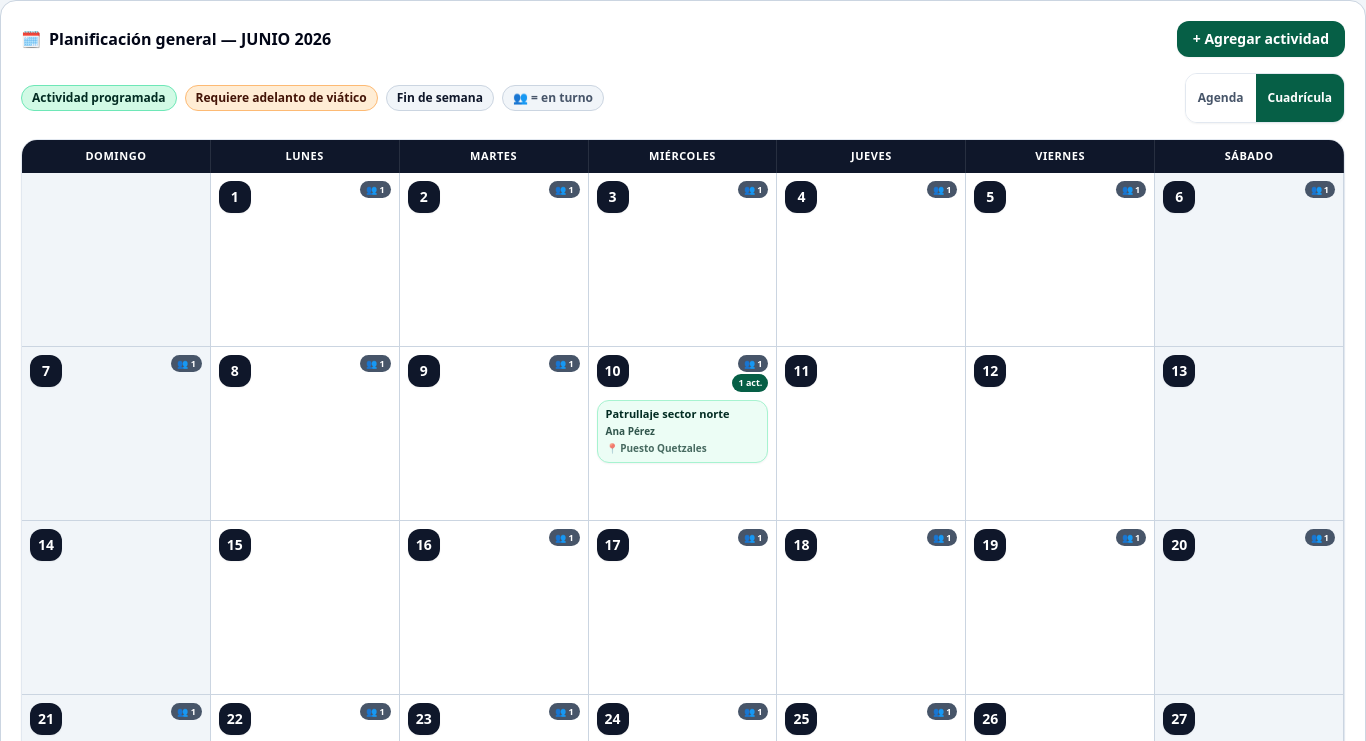
Planificación — modos agenda y cuadrícula › el toggle cambia a agenda y conserva la actividad visible
This screenshot has width=1366, height=741.
Click the button "Agenda" at (1221, 98), box [1186,74,1256,122]
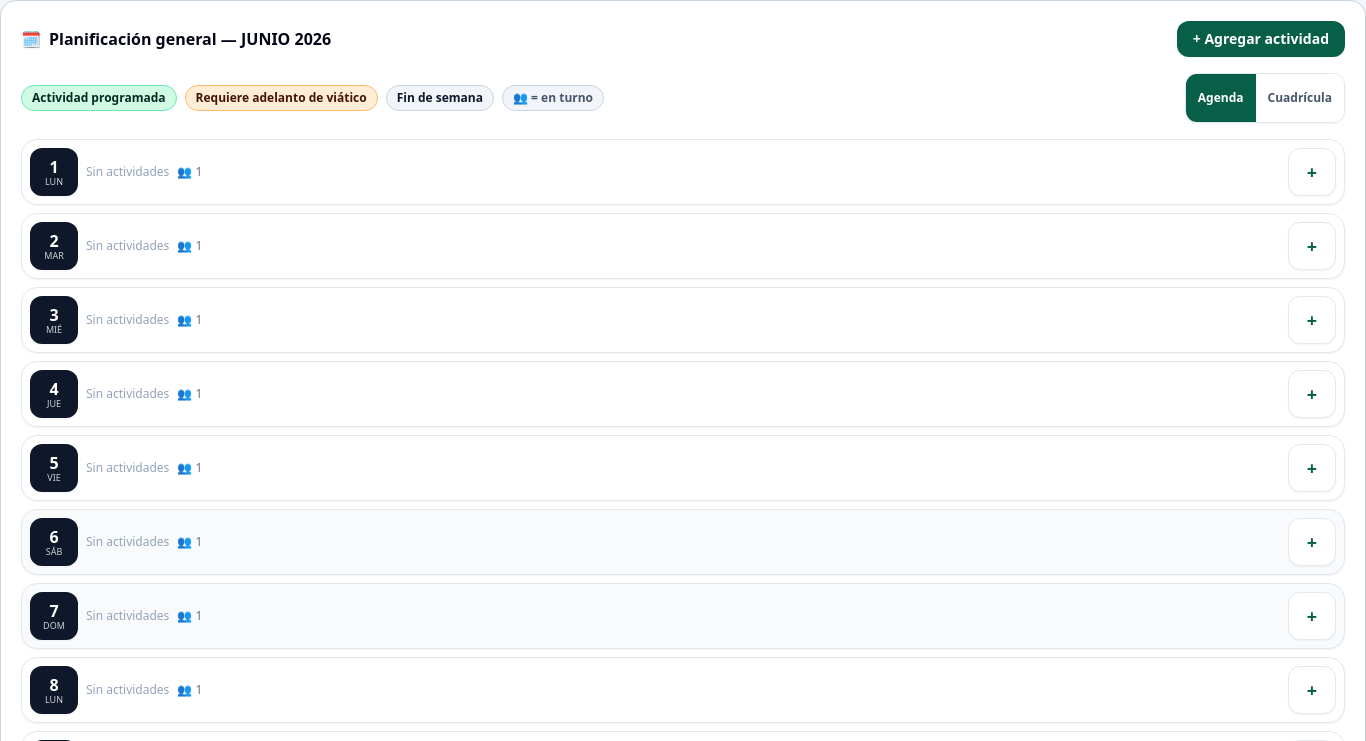
Now the text "LUNES" is gone
Now the 1st text "Sin actividades" is shown, box [86,163,169,180]
// Vuelta a cuadrícula.
Click the button "Cuadrícula" at (1300, 98), box [1256,74,1344,122]
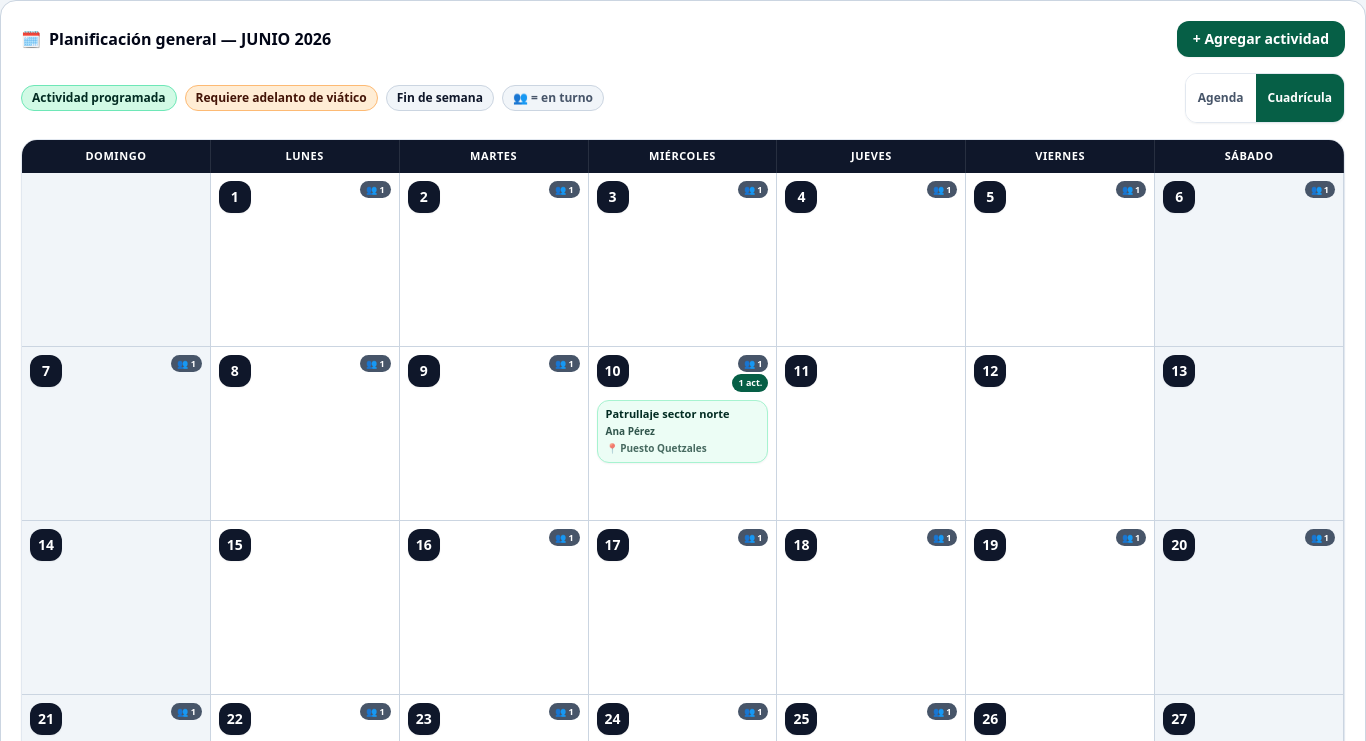
Now the text "LUNES" is shown, box [211,140,400,172]
